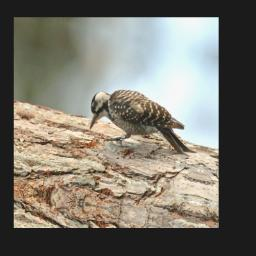Woodpecker: (82, 80, 204, 165)
